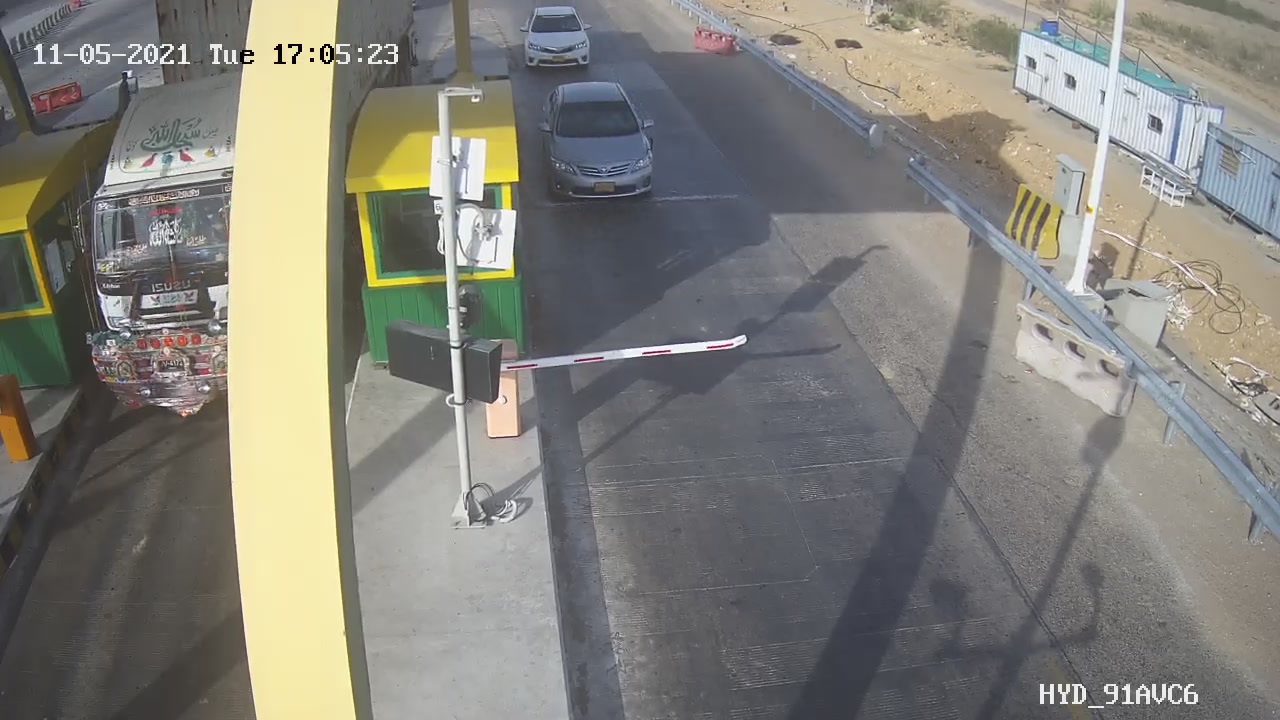F1: (525, 73, 679, 218), (509, 1, 605, 82)
